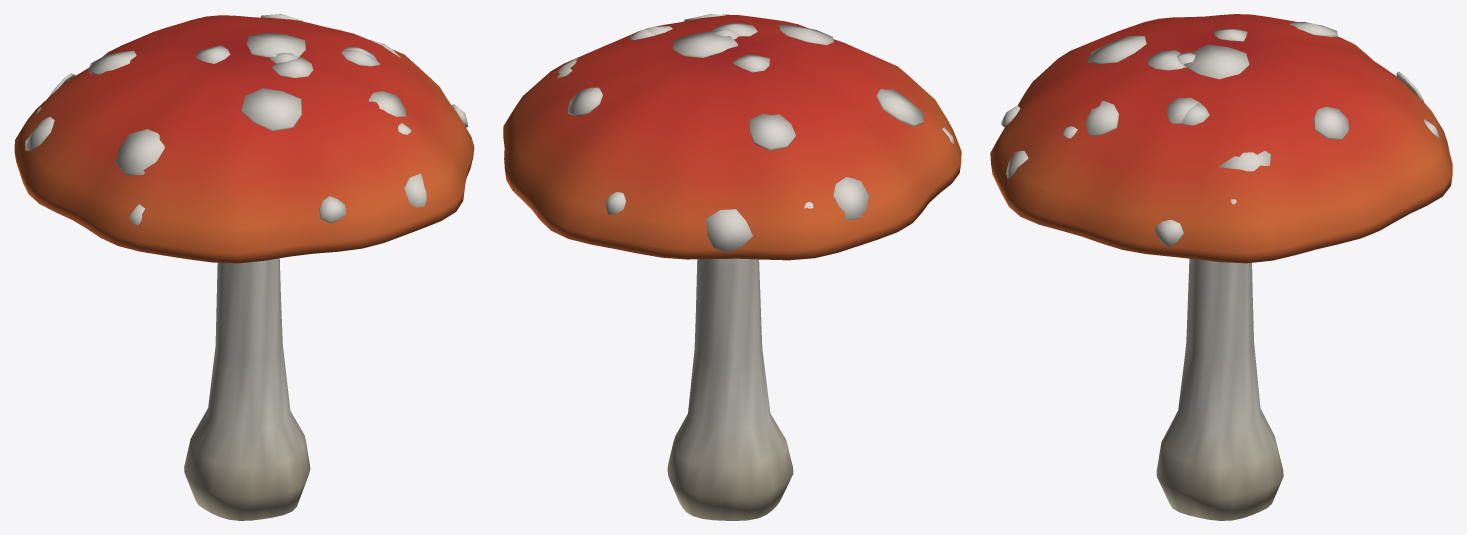
File: Mushroom_Red.fbx
3 views of the same model, side by side, from view 1: azimuth 30°, elevation 25°; view 2: azimuth 150°, elevation 25°; view 3: azimuth 270°, elevation 25° (orthographic).
Parts seen in each view (by area): view 1: Mushroom_Red; view 2: Mushroom_Red; view 3: Mushroom_Red.
Boxes of the visible parts, left/top/right/bottom form: Mushroom_Red: left=14, top=14, right=474, bottom=520; Mushroom_Red: left=503, top=14, right=961, bottom=520; Mushroom_Red: left=990, top=14, right=1452, bottom=520.
Size of the model in its own units: 6.33 by 6.81 by 6.28.
